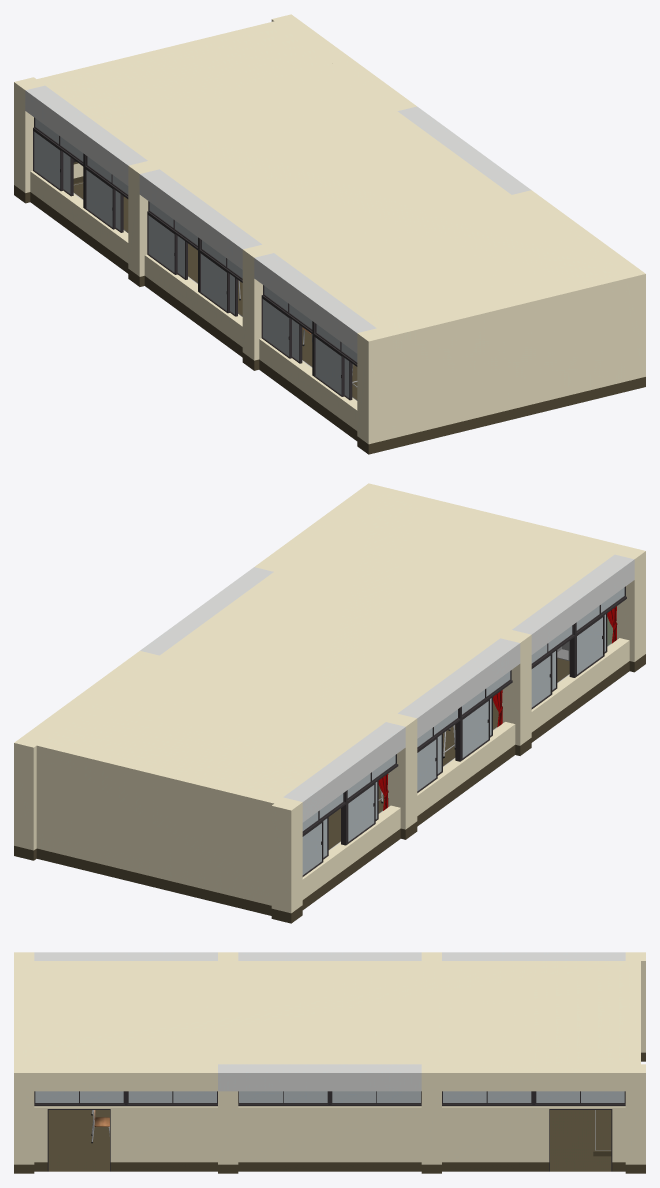
File: classroom_jp.glb
3 renders of one model, top to bottom at view 1: azimuth 30°, elevation 25°; view 2: azimuth 150°, elevation 25°; view 3: azimuth 270°, elevation 25°, orthographic. The views are drawn at different scales.
Parts seen in each view (by area): view 1: Chair.015_[Color_C04]_0; view 2: Chair.015_[Color_C04]_0, Chair.015_Material#1_0; view 3: Chair.015_[Color_C04]_0.
Part boxes in pixels (box(x1,y1,x2,y2)): Chair.015_[Color_C04]_0: box(14, 14, 645, 454); Chair.015_[Color_C04]_0: box(14, 483, 645, 923); Chair.015_Material#1_0: box(378, 606, 617, 810); Chair.015_[Color_C04]_0: box(14, 952, 645, 1173).
Bounding box in the file's own units: 8.53 × 3.33 × 18.9.
6 materials, 6 textured.
